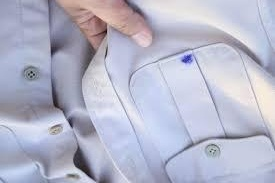ink: (181, 54, 193, 66)
